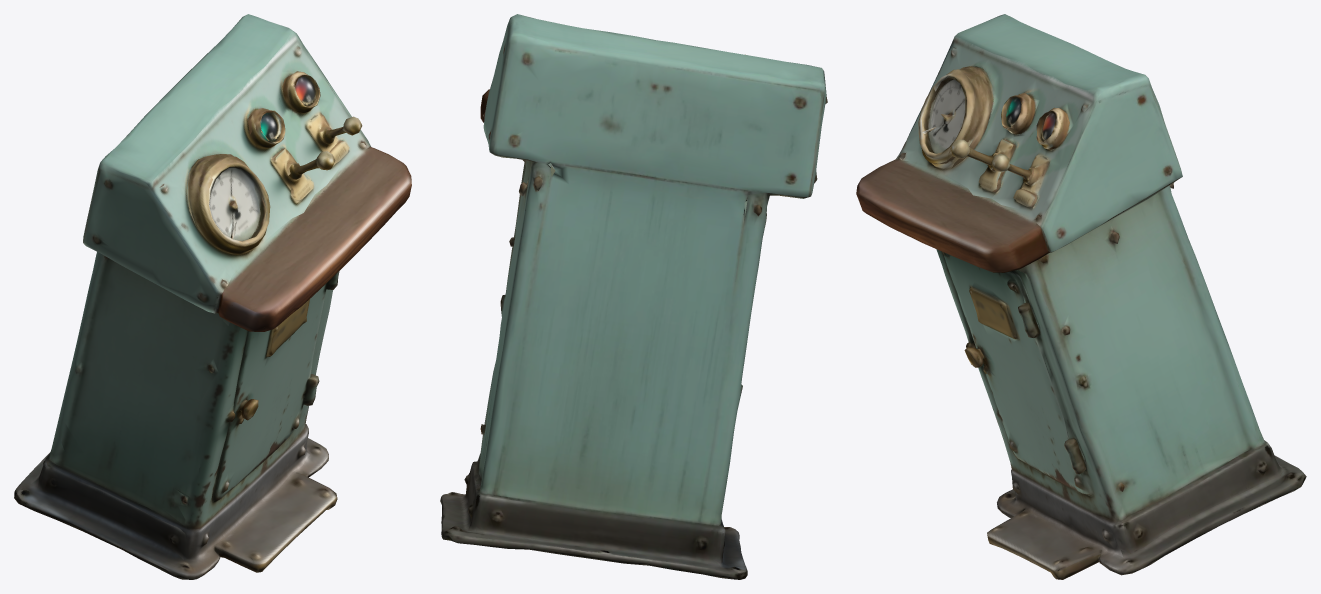
The model's file is console.fbx.
3 views of the same model, side by side, from view 1: azimuth 30°, elevation 25°; view 2: azimuth 150°, elevation 25°; view 3: azimuth 270°, elevation 25° (orthographic). The views are drawn at different scales.
Parts seen in each view (by area): view 1: Mesh_0.001; view 2: Mesh_0.001; view 3: Mesh_0.001.
Boxes of the visible parts, x1,y1,x2,y2 form: Mesh_0.001: (14, 14, 411, 579); Mesh_0.001: (440, 14, 827, 579); Mesh_0.001: (856, 14, 1306, 579).
Bounding box in the file's own units: 0.6099 × 0.9021 × 0.738.
1 material, 1 textured.
